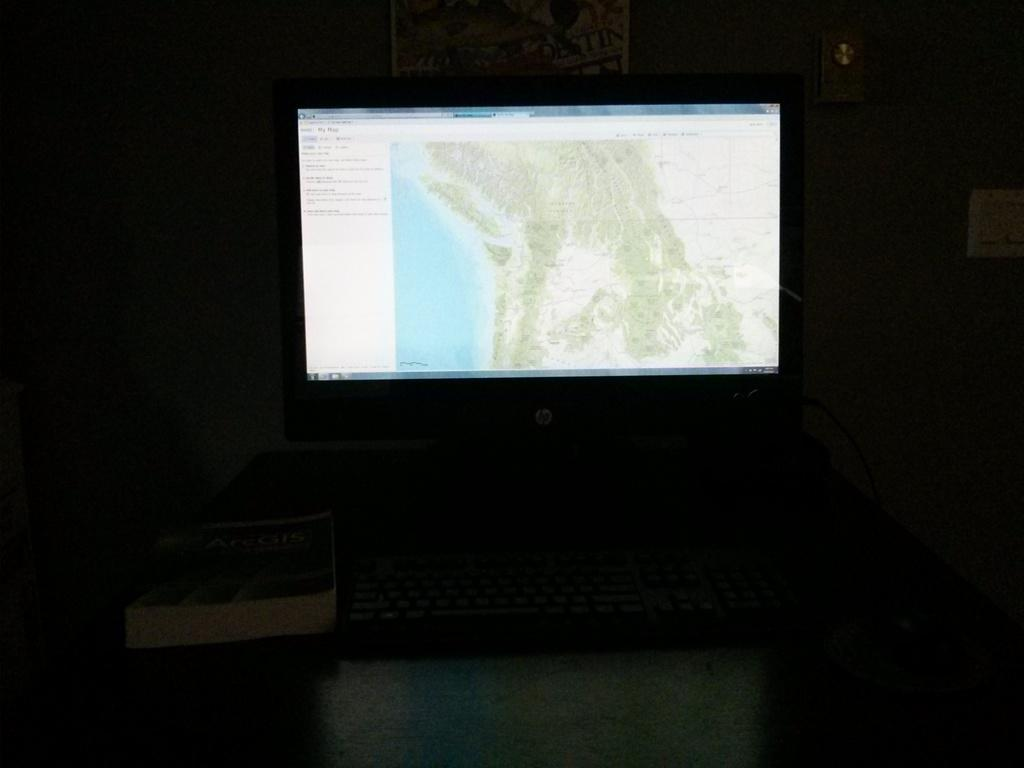Book: (123, 509, 338, 650)
Computer-monitor: (269, 69, 808, 446)
